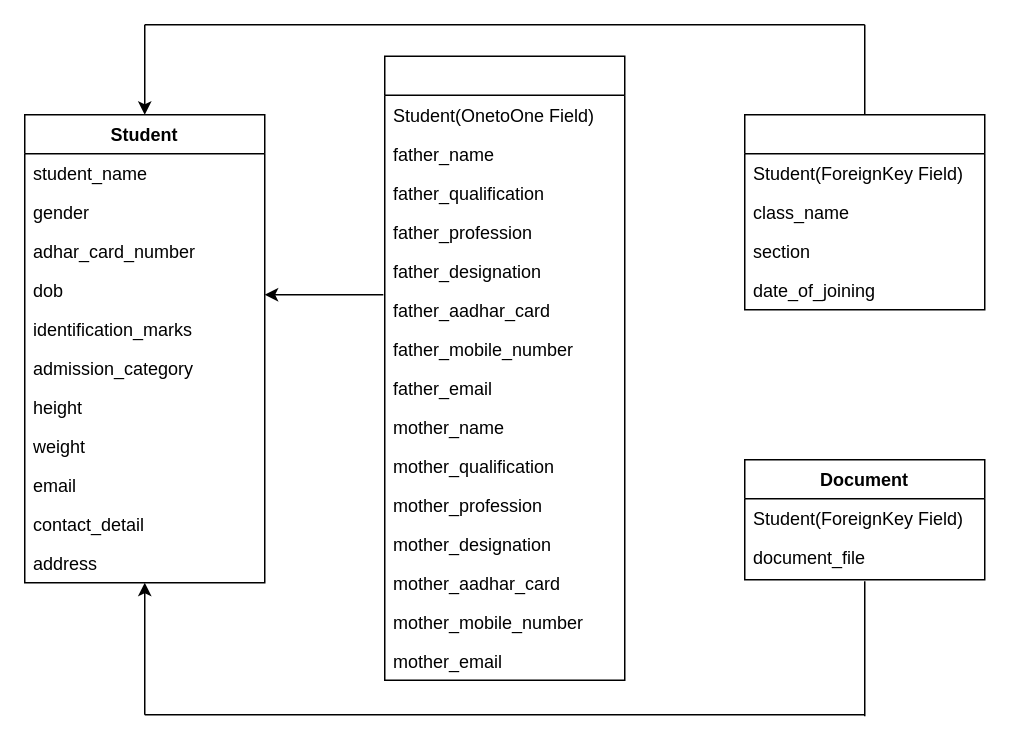
Image size: 1010x741. Some labels were removed from this diagram. The shapes that lost their labels are listed below. From the top down, each one's box as (x1, y1, x2, y2) in pixels, then its label:
(743, 113, 985, 310): Academic_Detail
(383, 55, 625, 680): Parent
